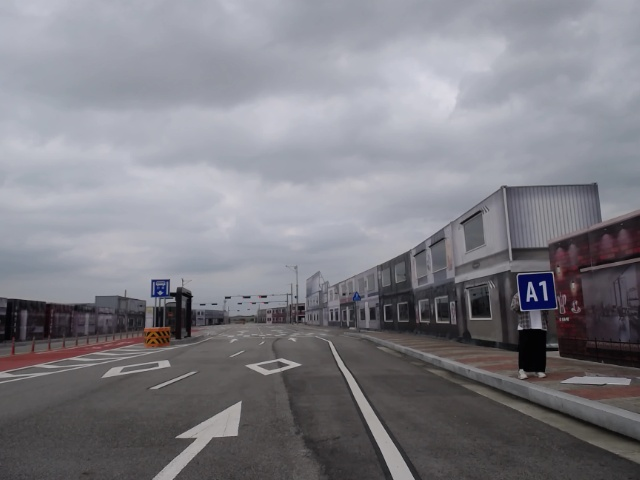delivery_a1: (517, 271, 558, 312)
